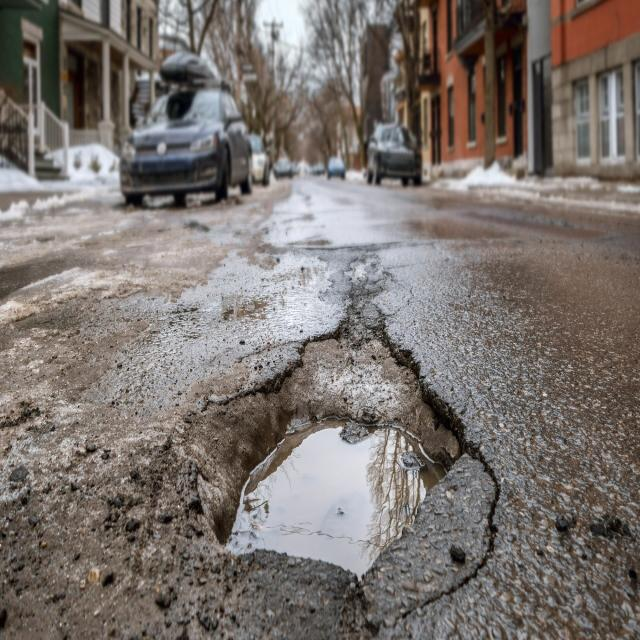Pothole: (132, 276, 506, 626)
